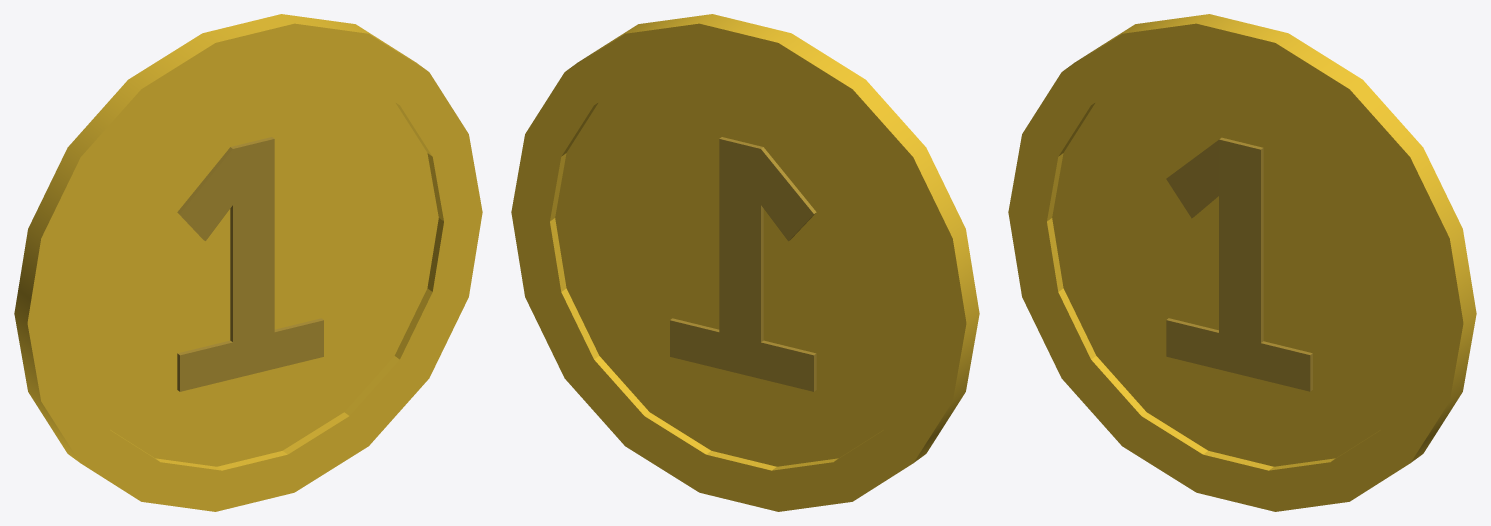
Rendered from Coin.fbx.
The picture shows the model from 3 angles, left to right: view 1: azimuth 30°, elevation 25°; view 2: azimuth 150°, elevation 25°; view 3: azimuth 330°, elevation 25°; orthographic projection.
Visible parts, largest first — view 1: Cylinder001, Box001; view 2: Cylinder001, Box001; view 3: Cylinder001, Box001.
Boxes of the visible parts, left/top/right/bottom form: Cylinder001: left=14, top=14, right=482, bottom=511; Box001: left=177, top=137, right=323, bottom=391; Cylinder001: left=511, top=14, right=979, bottom=511; Box001: left=670, top=137, right=816, bottom=391; Cylinder001: left=1008, top=14, right=1476, bottom=511; Box001: left=1166, top=137, right=1312, bottom=391.
Size of the model in its own units: 100 by 5 by 98.48.
